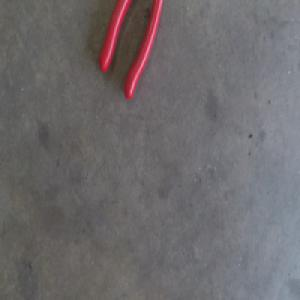Pliers: (98, 0, 163, 99)
